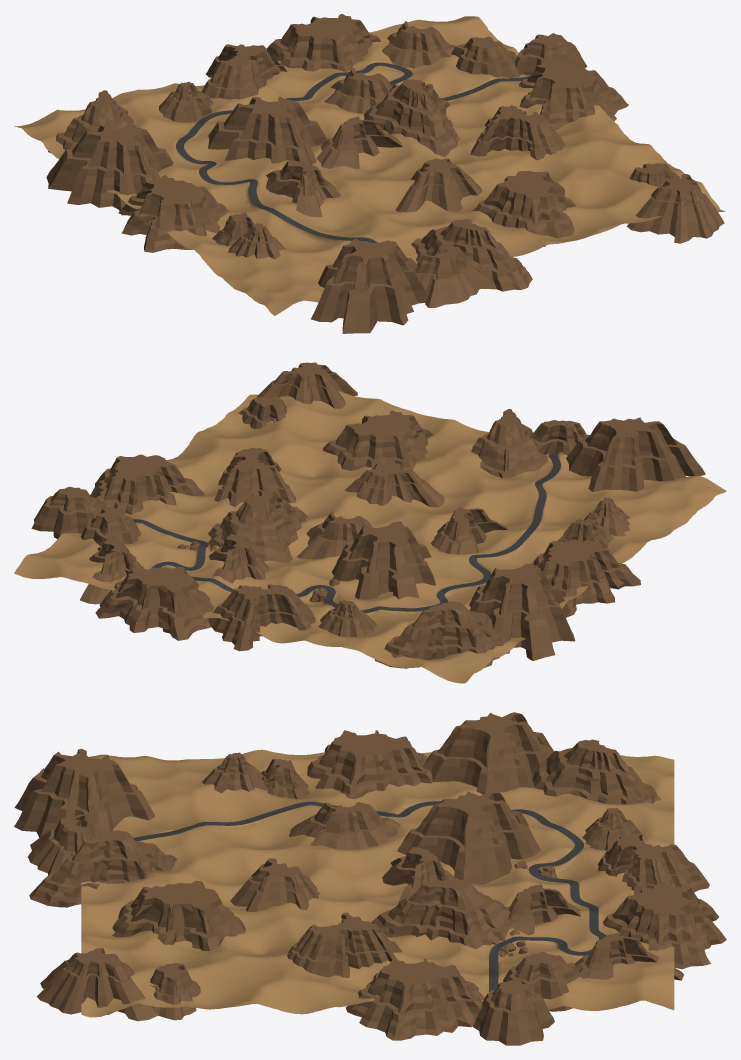
Rendered from Terrain_006.glb.
3 views of the same model, one above another, from view 1: azimuth 30°, elevation 25°; view 2: azimuth 150°, elevation 25°; view 3: azimuth 270°, elevation 25° (orthographic). The views are drawn at different scales.
Visible parts, largest first — view 1: Road, Mountain_5, Mountain_5.002, Mountain_5.001, Mountain_10.003, Mountain_10.001, Mountain_10.004, Mountain_10.002, Mountain_1.001, Mountain_9.001, Mountain_1.003, Mountain_4.002 (+15 smaller); view 2: Road, Mountain_5, Mountain_5.002, Mountain_10.002, Mountain_5.001, Mountain_1.002, Mountain_10.003, Mountain_10.004, Mountain_4.002, Mountain_10.001, Mountain_1.001, Mountain_1.003 (+15 smaller); view 3: Road, Mountain_5.001, Mountain_10.001, Mountain_5, Mountain_5.002, Mountain_10.002, Mountain_1.001, Mountain_10.004, Mountain_10.003, Mountain_1.003, Mountain_1.002, Mountain_9.001 (+15 smaller).
Boxes of the visible parts, x1,y1,x2,y2 form: Road: [14, 16, 725, 315]; Mountain_5: [311, 238, 428, 333]; Mountain_5.002: [46, 124, 173, 215]; Mountain_5.001: [208, 96, 327, 165]; Mountain_10.003: [118, 175, 229, 252]; Mountain_10.001: [519, 59, 628, 130]; Mountain_10.004: [472, 171, 576, 246]; Mountain_10.002: [266, 14, 381, 71]; Mountain_1.001: [364, 79, 459, 157]; Mountain_9.001: [626, 173, 724, 243]; Mountain_1.003: [411, 219, 532, 291]; Mountain_4.002: [202, 44, 287, 99]; Road: [14, 391, 726, 683]; Mountain_5: [566, 417, 705, 491]; Mountain_5.002: [469, 563, 575, 660]; Mountain_10.002: [95, 566, 213, 640]; Mountain_5.001: [331, 521, 435, 599]; Mountain_1.002: [374, 601, 508, 668]; Mountain_10.003: [533, 539, 640, 614]; Mountain_10.004: [323, 410, 433, 470]; Mountain_4.002: [208, 584, 315, 651]; Mountain_10.001: [90, 454, 204, 514]; Mountain_1.001: [208, 491, 308, 562]; Mountain_1.003: [471, 409, 548, 478]; Road: [81, 749, 674, 1017]; Mountain_5.001: [397, 791, 540, 884]; Mountain_10.001: [345, 958, 484, 1040]; Mountain_5: [14, 748, 155, 837]; Mountain_5.002: [423, 712, 554, 794]; Mountain_10.002: [603, 883, 726, 969]; Mountain_1.001: [371, 880, 513, 948]; Mountain_10.004: [112, 880, 245, 950]; Mountain_10.003: [307, 730, 432, 799]; Mountain_1.003: [29, 830, 177, 907]; Mountain_1.002: [532, 739, 661, 804]; Mountain_9.001: [37, 948, 157, 1021].
Size of the model in its own units: 1168 by 118 by 1202.
